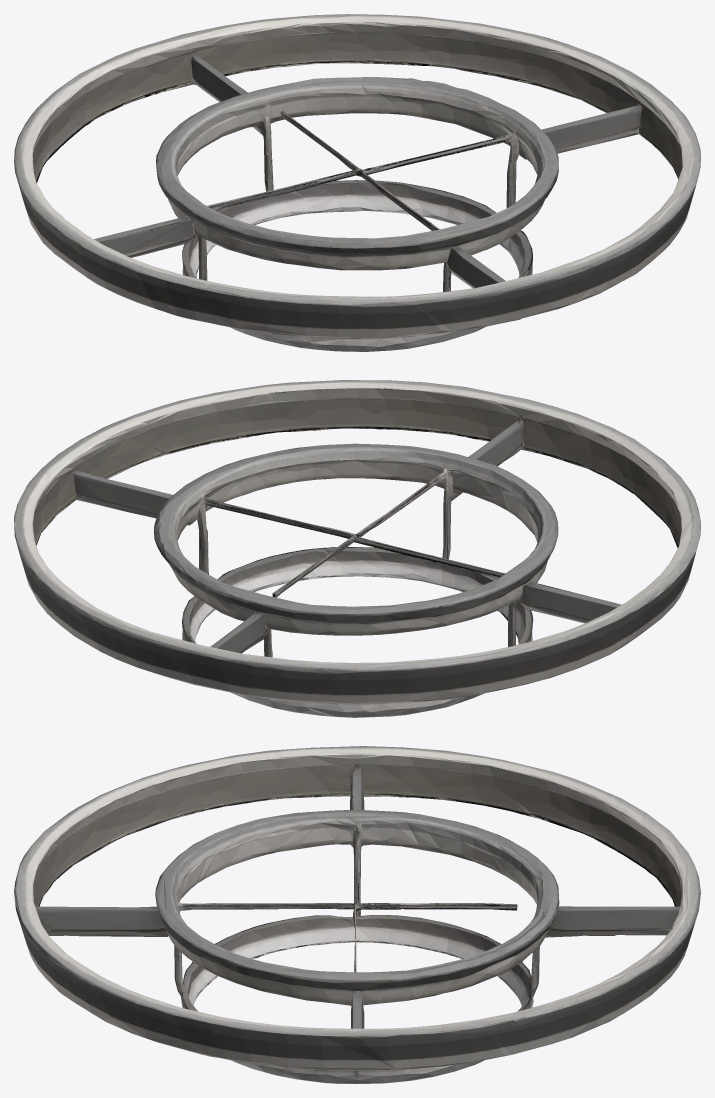
3 views of the same model, one above another, from view 1: azimuth 30°, elevation 25°; view 2: azimuth 150°, elevation 25°; view 3: azimuth 270°, elevation 25° (orthographic).
Visible parts, largest first — view 1: geometry_0; view 2: geometry_0; view 3: geometry_0.
Part boxes in pixels (bbox=[...]): geometry_0: bbox=[14, 14, 700, 351]; geometry_0: bbox=[14, 380, 700, 717]; geometry_0: bbox=[14, 746, 700, 1083].
Size of the model in its own units: 0.9983 by 0.2001 by 0.9977.
1 material, 1 textured.
